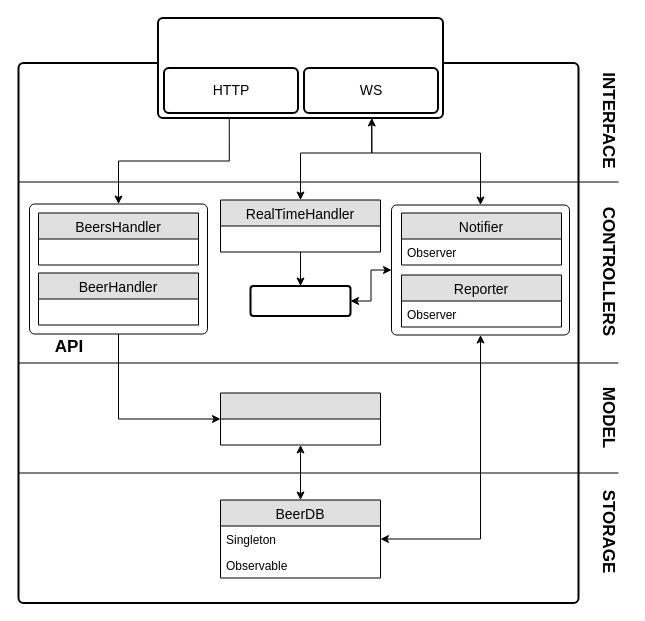
This 645x621 diagram has some shape labels left out. The shapes that lost their labels are listed below. From the top down, each one's box as (x1, y1, x2, y2) in pixels, then its label:
(156, 16, 438, 58): Network
(249, 284, 351, 316): Connections
(220, 392, 380, 445): Beer
